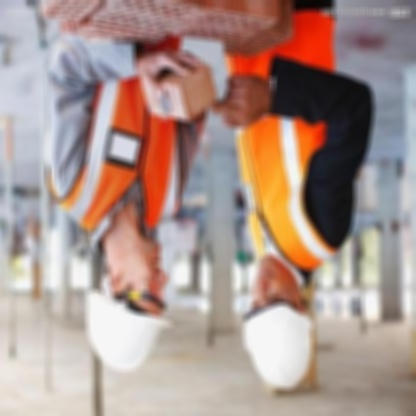vest: (216, 10, 348, 273), (46, 30, 192, 238)
white: (82, 277, 178, 374), (238, 296, 318, 394)
